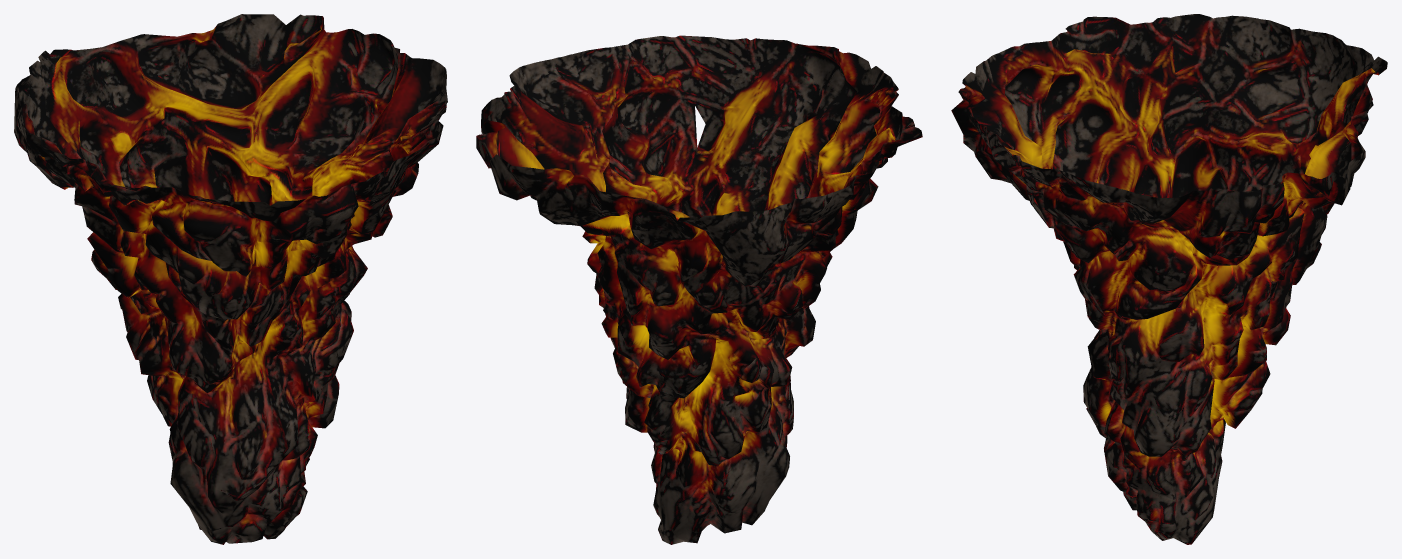
The model's file is belowPlatform.fbx.
The picture shows the model from 3 angles, left to right: view 1: azimuth 30°, elevation 25°; view 2: azimuth 150°, elevation 25°; view 3: azimuth 270°, elevation 25°; orthographic projection. The views are drawn at different scales.
Parts seen in each view (by area): view 1: g platform:Group26020; view 2: g platform:Group26020; view 3: g platform:Group26020.
Boxes of the visible parts, <box> form: g platform:Group26020: <box>14,14,447,544</box>; g platform:Group26020: <box>476,35,922,537</box>; g platform:Group26020: <box>951,14,1387,536</box>.
Size of the model in its own units: 151 by 184 by 152.
